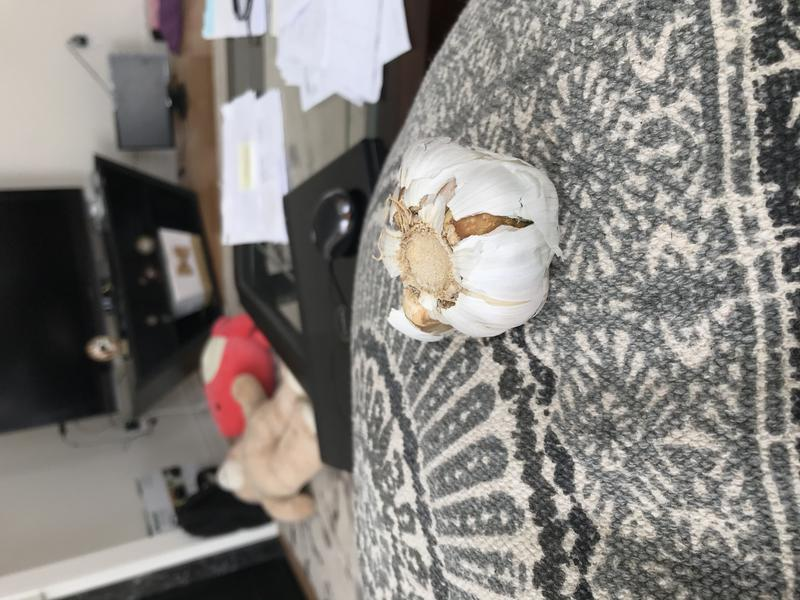garlic: (372, 133, 567, 349)
